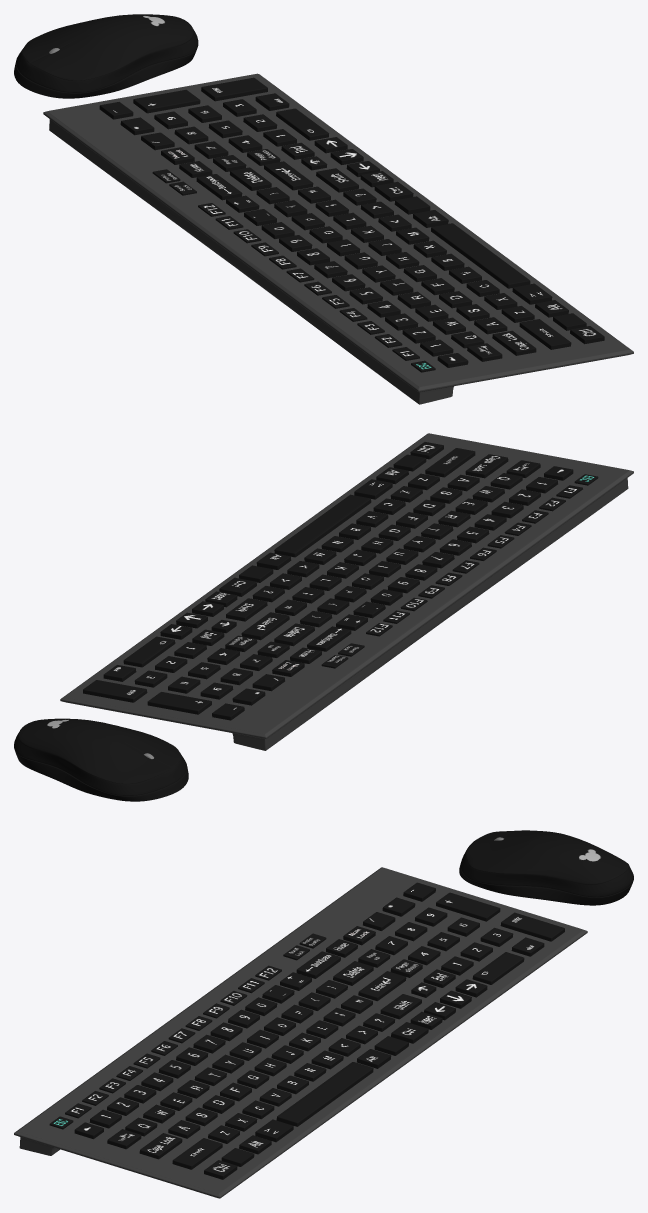
Rendered from keyboard-and-mouse.obj.
3 renders of one model, top to bottom at view 1: azimuth 30°, elevation 25°; view 2: azimuth 150°, elevation 25°; view 3: azimuth 330°, elevation 25°, orthographic. The views are drawn at different scales.
Parts seen in each view (by area): view 1: keyboard_base, keyboard_alfabet, mouse_base, keyboard_numbers; view 2: keyboard_base, keyboard_alfabet, mouse_base, keyboard_numbers; view 3: keyboard_base, keyboard_alfabet, mouse_base, keyboard_numbers.
Boxes of the visible parts, x1,y1,x2,y2 form: keyboard_base: (43, 73, 633, 404); keyboard_alfabet: (152, 137, 604, 372); mouse_base: (14, 14, 198, 98); keyboard_numbers: (99, 77, 328, 164); keyboard_base: (60, 433, 633, 750); keyboard_alfabet: (160, 442, 598, 668); mouse_base: (14, 718, 188, 801); keyboard_numbers: (83, 636, 304, 720); keyboard_base: (14, 867, 587, 1198); keyboard_alfabet: (49, 933, 487, 1179); mouse_base: (459, 830, 633, 905); keyboard_numbers: (343, 882, 564, 984).
Size of the model in its own units: 0.1359 by 0.0239 by 0.5003.
Materials: 5 (3 with a texture image).
